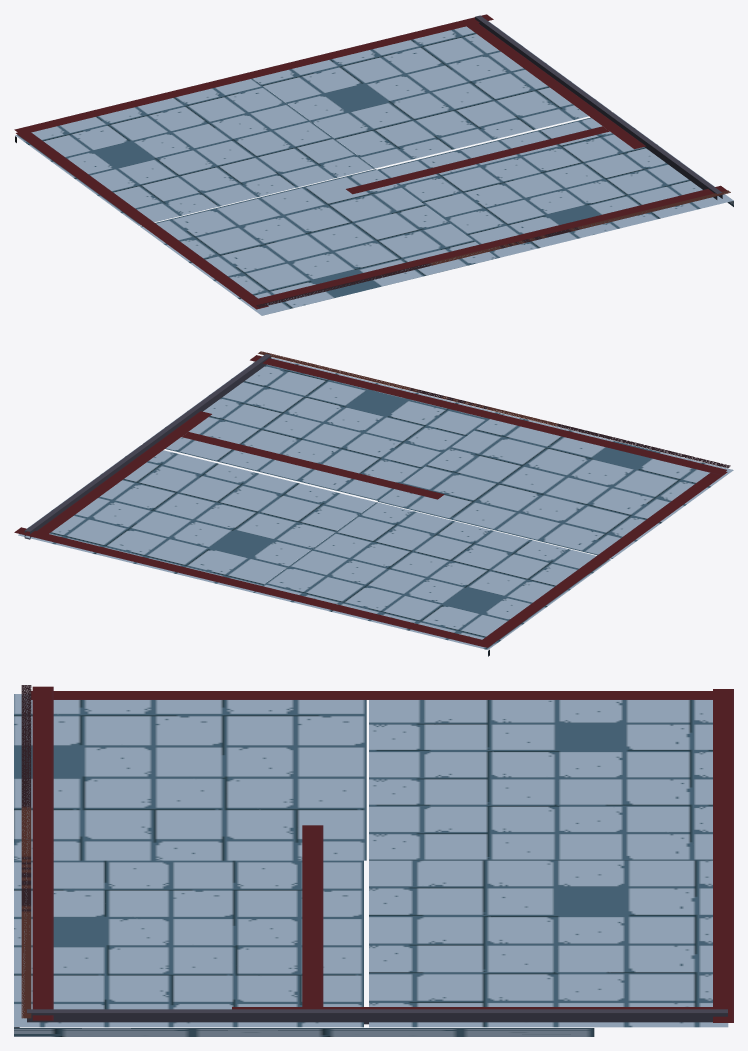
Rendered from Piso.fbx.
3 views of the same model, one above another, from view 1: azimuth 30°, elevation 25°; view 2: azimuth 150°, elevation 25°; view 3: azimuth 270°, elevation 25° (orthographic). The views are drawn at different scales.
Parts seen in each view (by area): view 1: Piso; view 2: Piso; view 3: Piso.
Boxes of the visible parts, <box> form: Piso: <box>14,14,733,315</box>; Piso: <box>14,351,733,656</box>; Piso: <box>14,685,733,1036</box>.
Size of the model in its own units: 986 by 26.07 by 896.
